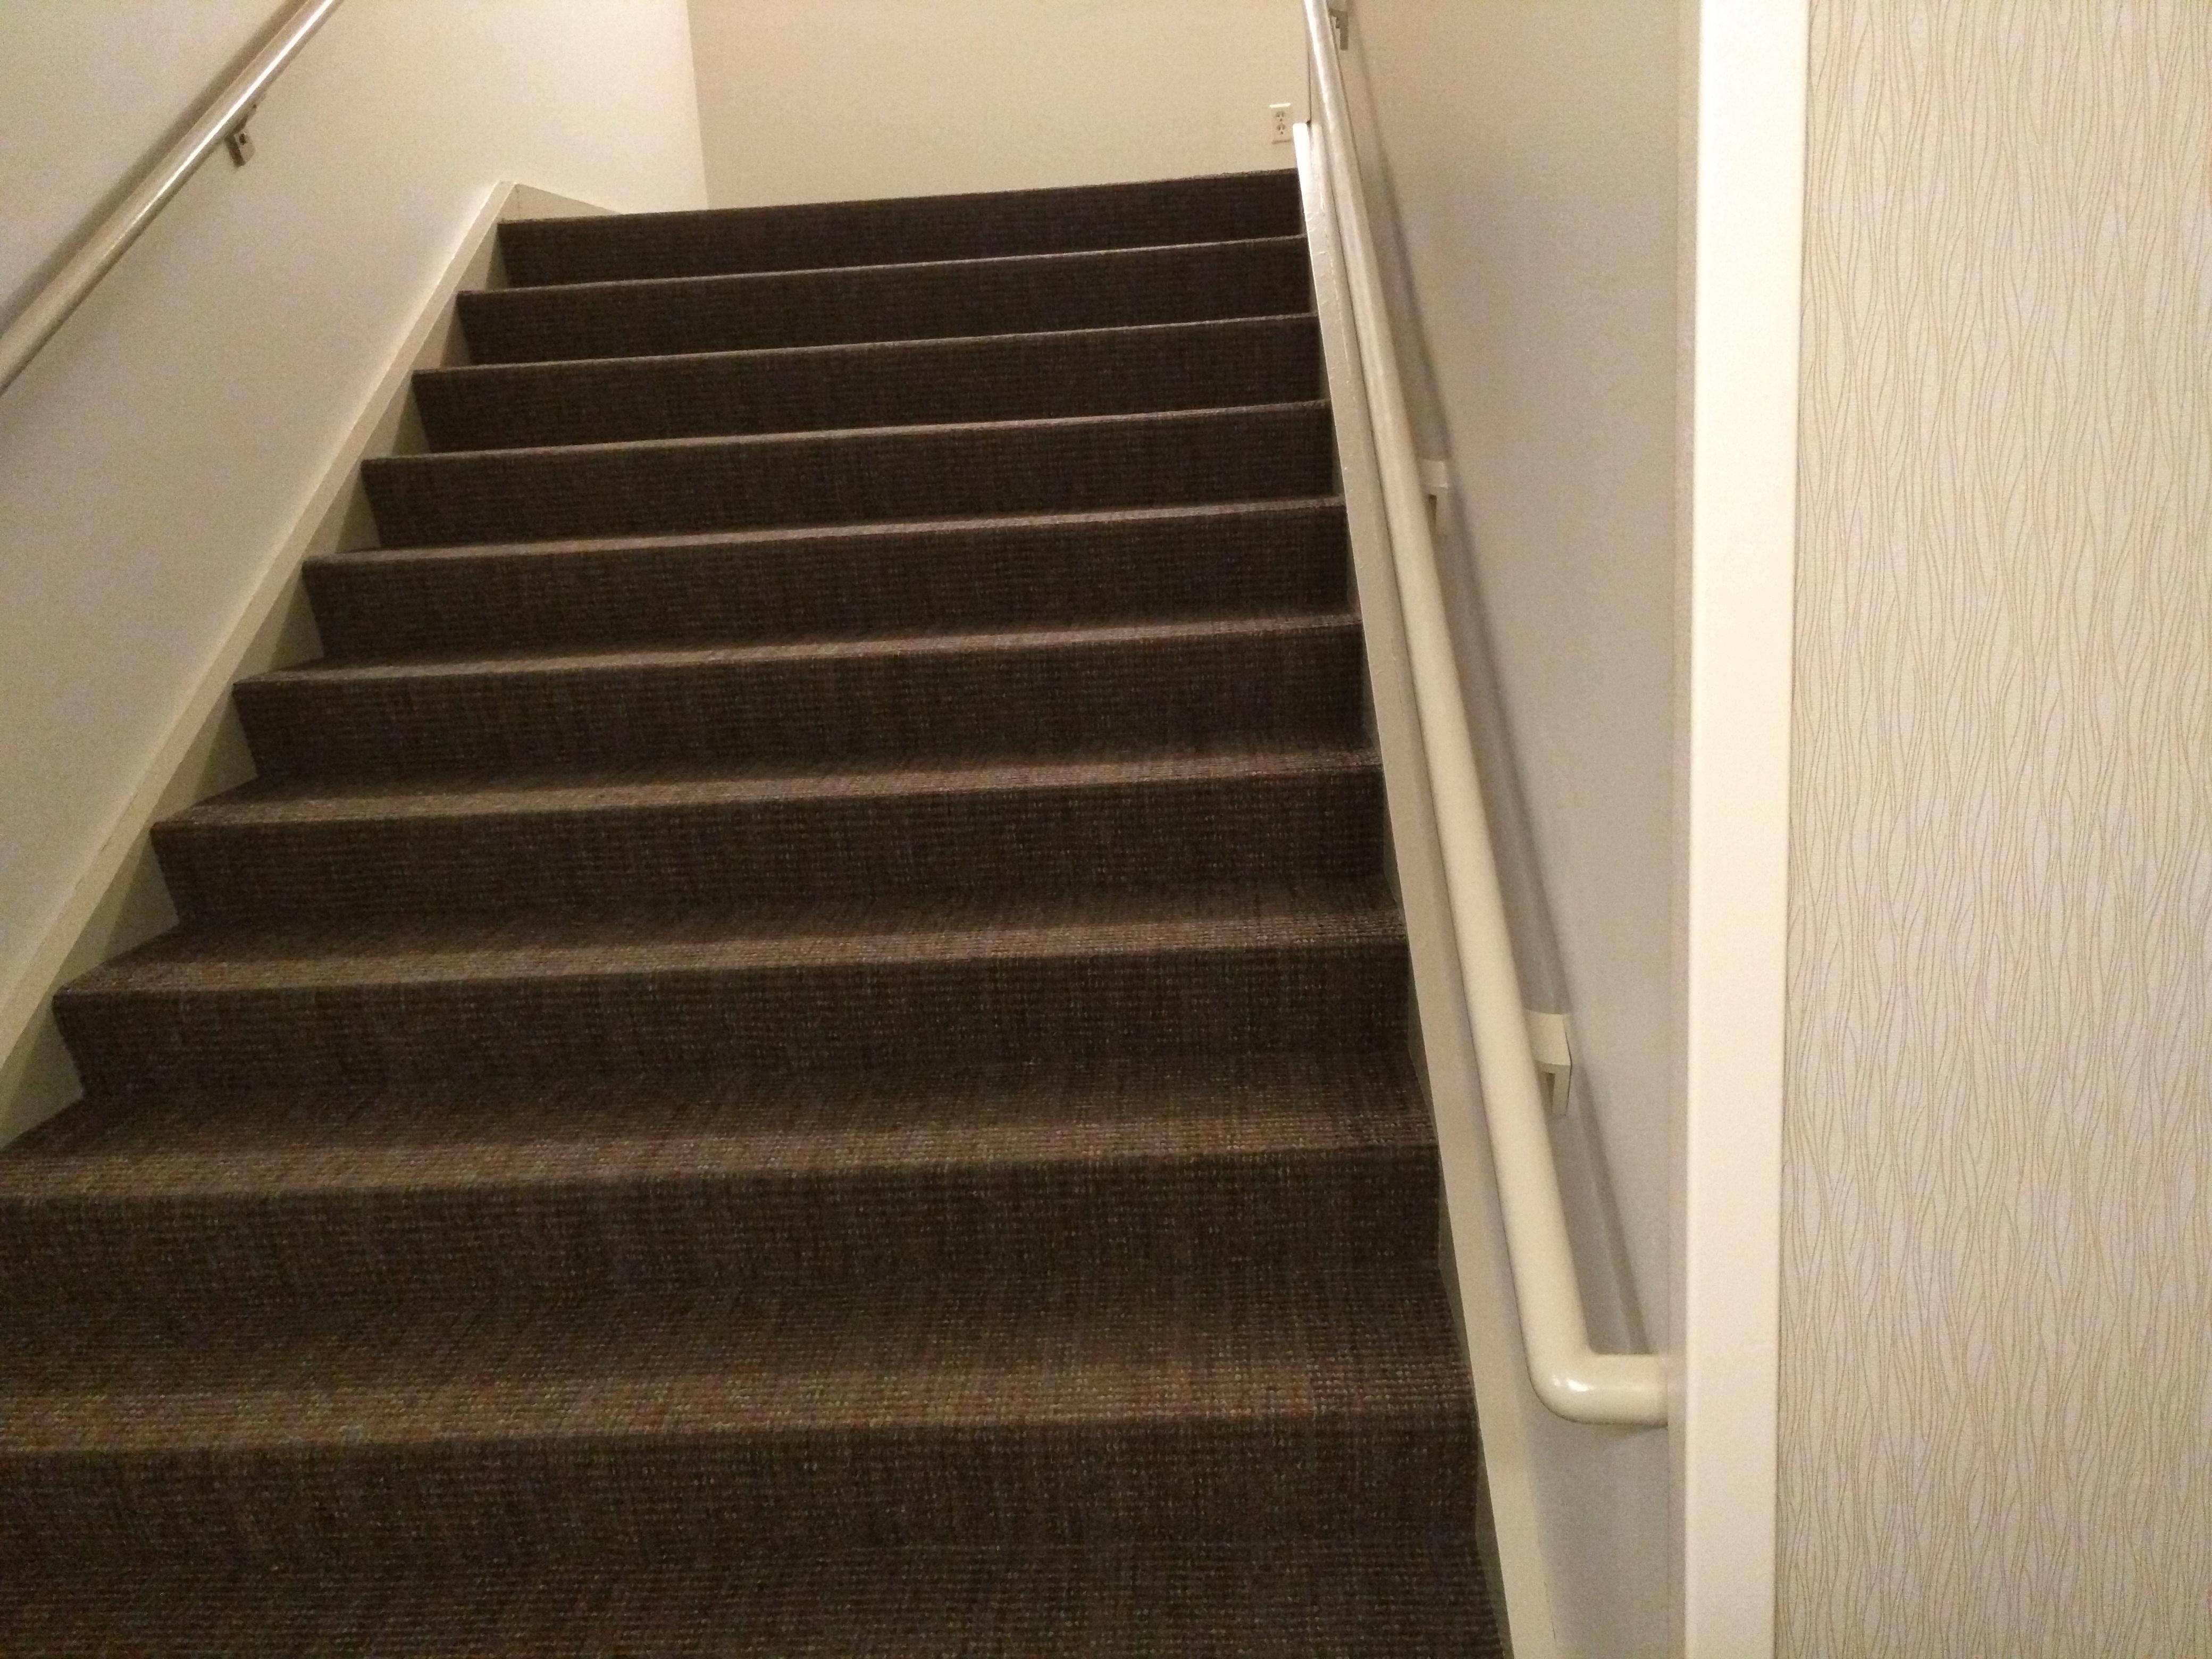stairs_up: (21, 153, 1487, 1560)
